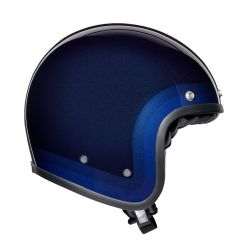with_helmet: (19, 21, 223, 209)
